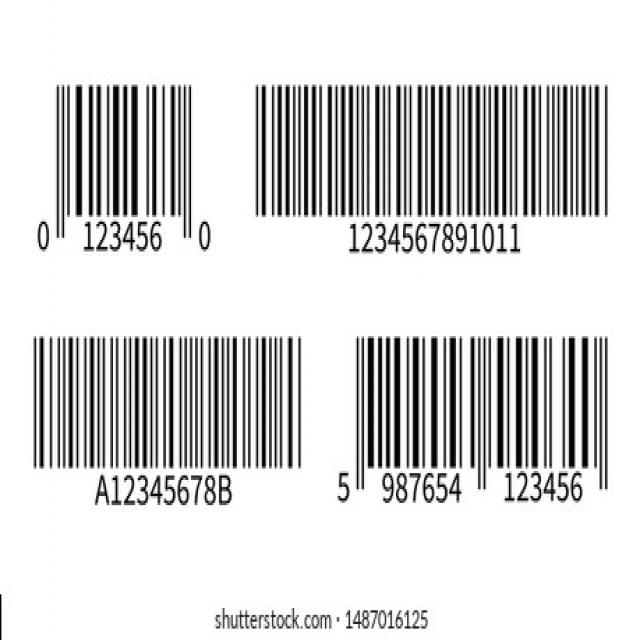Barkod: (250, 74, 614, 260), (330, 314, 612, 512), (27, 326, 310, 510), (32, 67, 216, 265)
